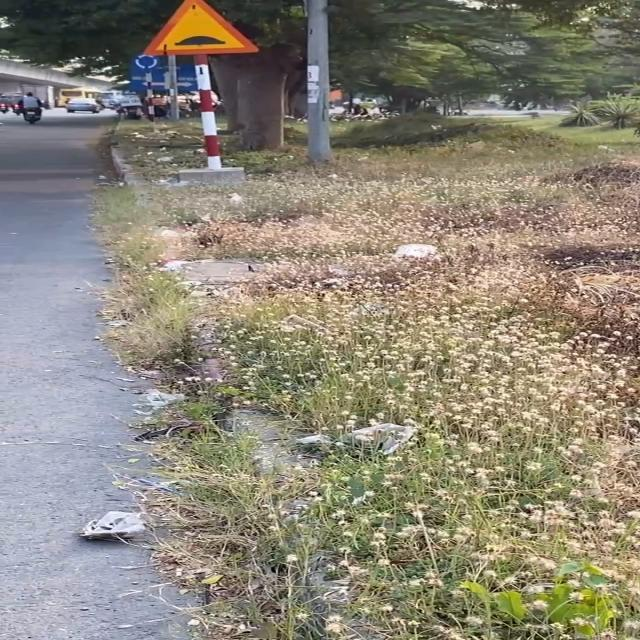221-duong-go-ghe: (140, 0, 260, 55)
303-noi-giao-nhau-chay-theo-vong-xuyen: (134, 53, 160, 71)
